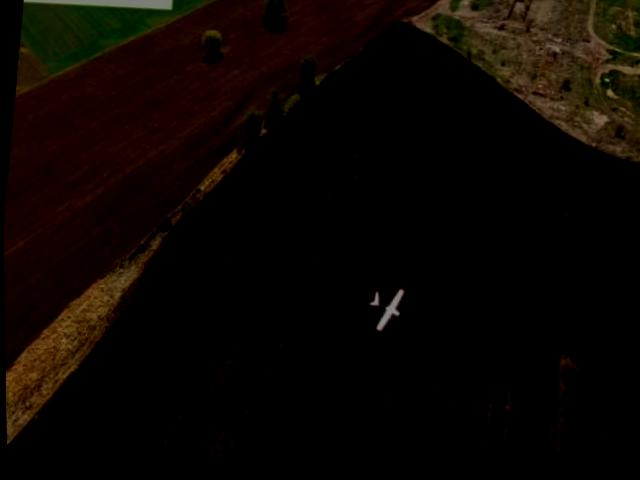uav: (361, 284, 414, 343)
